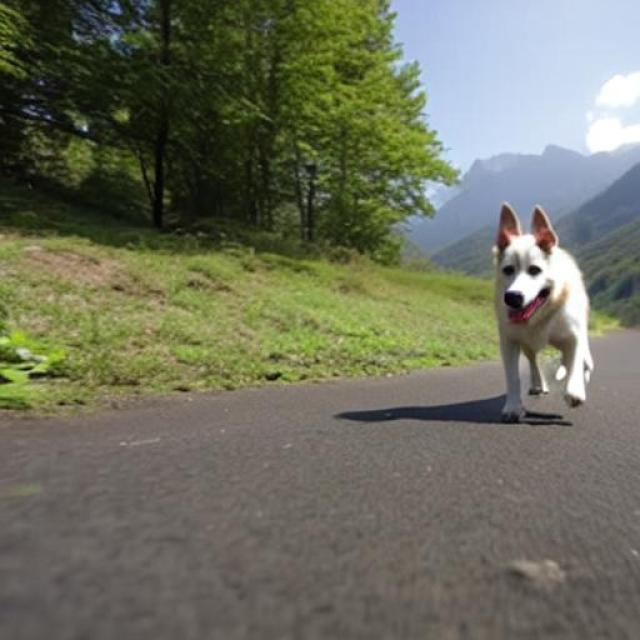Dog: (494, 204, 596, 423)
